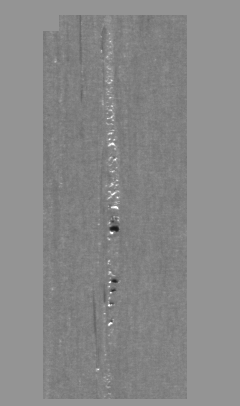oxl: (35, 10, 205, 396)
